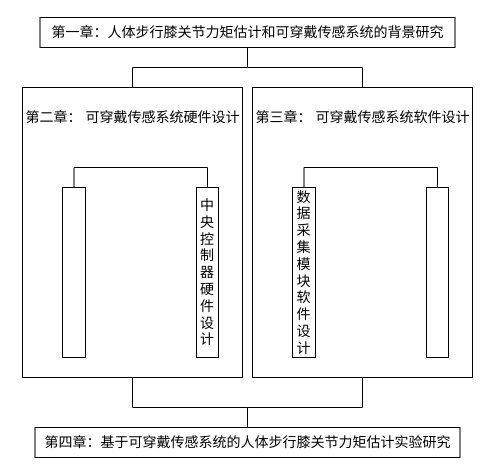
Some shapes in this 494 by 475 pixel diagram are drawn without their labels. Each missing label, with the box of its shape:
中 央 控 制 器 软 件 设 计: (426, 186, 448, 358)
数 据 采 集 模 块 硬 件 设 计: (62, 186, 86, 358)
